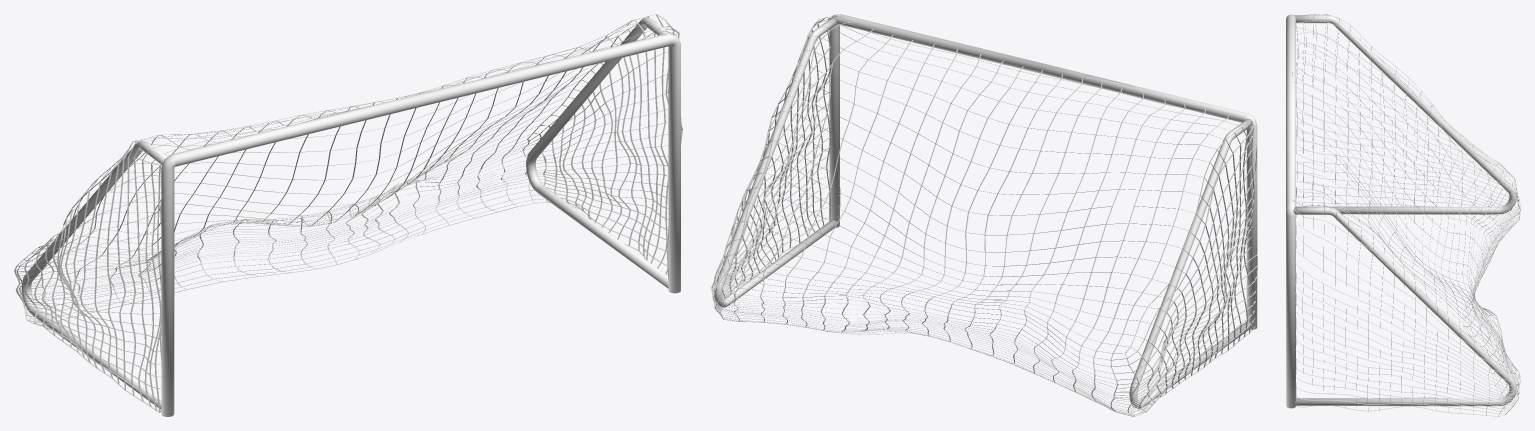
The model's file is Soccer Field Goal.fbx.
The picture shows the model from 3 angles, left to right: view 1: azimuth 30°, elevation 25°; view 2: azimuth 150°, elevation 25°; view 3: azimuth 270°, elevation 25°; orthographic projection. The views are drawn at different scales.
Visible parts, largest first — view 1: Cube, Cylinder; view 2: Cube, Cylinder; view 3: Cube, Cylinder.
Part boxes in pixels (box(x1,y1,x2,y2)): Cube: box(14, 14, 682, 412); Cylinder: box(21, 17, 680, 416); Cube: box(711, 16, 1257, 416); Cylinder: box(714, 14, 1257, 409); Cube: box(1292, 14, 1520, 416); Cylinder: box(1286, 14, 1516, 408).
Bounding box in the file's own units: 575 × 269 × 269.
